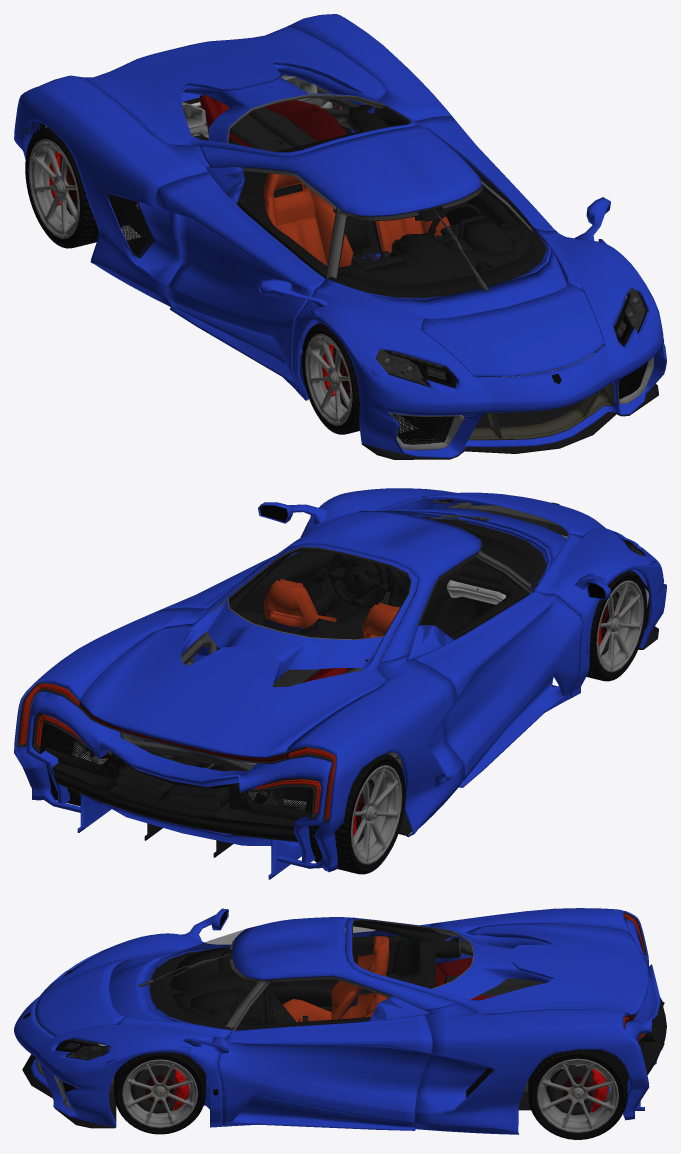
3 renders of one model, top to bottom at view 1: azimuth 30°, elevation 25°; view 2: azimuth 150°, elevation 25°; view 3: azimuth 270°, elevation 25°, orthographic. The views are drawn at different scales.
Visible parts, largest first — view 1: Body_BodyShell_289, 38_Window001, Body_BodyShell_290, Body_RDoorRot_RDoorPivot_DooR_199, Body_Hatch_253, Body_219_BodyShell, Body_BodyShell_264, 223, Body_RDoorRot_RDoorPivot_DooR_310, Seat1_p111, Body_BodyShell_Detail_14, Body_Hatch_39 (+26 smaller); view 2: Body_Hatch_253, Body_BodyShell_290, Body_RDoorRot_RDoorPivot_DooR_199, 38_Window001, Body_282_Tail001, Body_BodyShell_289, Body_219_BodyShell, 223, Body_Hatch_39, Body_RDoorRot_RDoorPivot_DooR_310, Wheels_WheelRR_321_Tires2, Body_Tail_p168 (+36 smaller); view 3: Body_BodyShell_290, Body_LDoorRot_LDoorPivot_DoorL_199, Body_BodyShell_289, 38_Window001, Body_Hatch_253, Body_219_BodyShell, Body_LDoorRot_LDoorPivot_DoorL_87, 223, Body_BodyShell_264, Body_Hatch_39, Wheels_WheelLR_321_Tires2, Wheels_WheelLR_Tires2_158 (+27 smaller).
Boxes of the visible parts, bbox=[...] form: Body_BodyShell_289: bbox=[291, 228, 666, 458]; 38_Window001: bbox=[227, 94, 548, 299]; Body_BodyShell_290: bbox=[14, 14, 453, 307]; Body_RDoorRot_RDoorPivot_DooR_199: bbox=[155, 172, 325, 394]; Body_Hatch_253: bbox=[83, 27, 418, 156]; Body_219_BodyShell: bbox=[200, 114, 481, 216]; Body_BodyShell_264: bbox=[421, 283, 604, 376]; 223: bbox=[328, 224, 546, 298]; Body_RDoorRot_RDoorPivot_DooR_310: bbox=[205, 166, 336, 278]; Seat1_p111: bbox=[263, 173, 353, 267]; Body_BodyShell_Detail_14: bbox=[364, 242, 566, 329]; Body_Hatch_39: bbox=[181, 64, 379, 142]; Body_Hatch_253: bbox=[80, 543, 418, 763]; Body_BodyShell_290: bbox=[14, 607, 464, 872]; Body_RDoorRot_RDoorPivot_DooR_199: bbox=[413, 591, 582, 787]; 38_Window001: bbox=[228, 510, 548, 639]; Body_282_Tail001: bbox=[26, 691, 331, 879]; Body_BodyShell_289: bbox=[300, 488, 666, 697]; Body_219_BodyShell: bbox=[200, 511, 481, 662]; 223: bbox=[338, 516, 547, 634]; Body_Hatch_39: bbox=[181, 599, 383, 682]; Body_RDoorRot_RDoorPivot_DooR_310: bbox=[407, 553, 533, 659]; Wheels_WheelRR_321_Tires2: bbox=[351, 765, 402, 864]; Body_Tail_p168: bbox=[160, 801, 297, 841]; Body_BodyShell_290: bbox=[415, 908, 649, 1134]; Body_LDoorRot_LDoorPivot_DoorL_199: bbox=[218, 1014, 432, 1130]; Body_BodyShell_289: bbox=[14, 933, 231, 1127]; 38_Window001: bbox=[148, 919, 473, 1029]; Body_Hatch_253: bbox=[346, 917, 648, 1021]; Body_219_BodyShell: bbox=[231, 917, 456, 1010]; Body_LDoorRot_LDoorPivot_DoorL_87: bbox=[233, 976, 430, 1030]; 223: bbox=[149, 947, 296, 1029]; Body_BodyShell_264: bbox=[35, 960, 124, 1036]; Body_Hatch_39: bbox=[433, 930, 551, 1001]; Wheels_WheelLR_321_Tires2: bbox=[537, 1058, 618, 1133]; Wheels_WheelLR_Tires2_158: bbox=[528, 1049, 627, 1139].
Size of the model in its own units: 2.28 by 1.09 by 4.57.
